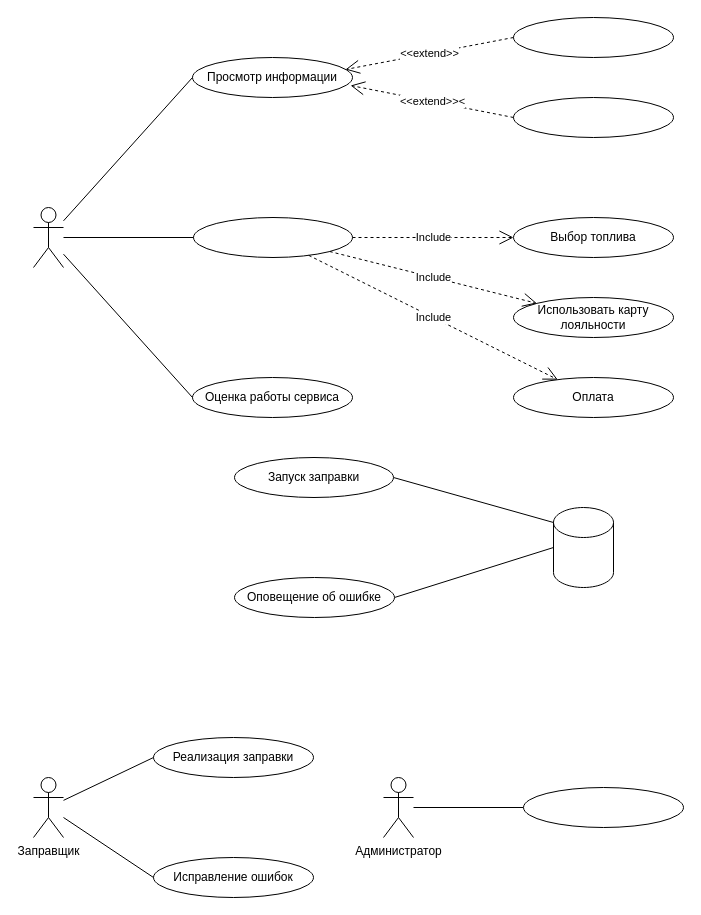
Some shapes in this 701 by 915 pixel diagram are drawn without their labels. Each missing label, with the box of its shape:
Клиент: (32, 206, 64, 268)
Оформление заказа: (192, 216, 352, 258)
Просмотр акций: (512, 96, 674, 138)
Просмотр цен: (512, 16, 674, 58)
Регистрация карт лояльности: (522, 786, 684, 828)
Станция заправки: (552, 506, 614, 588)
